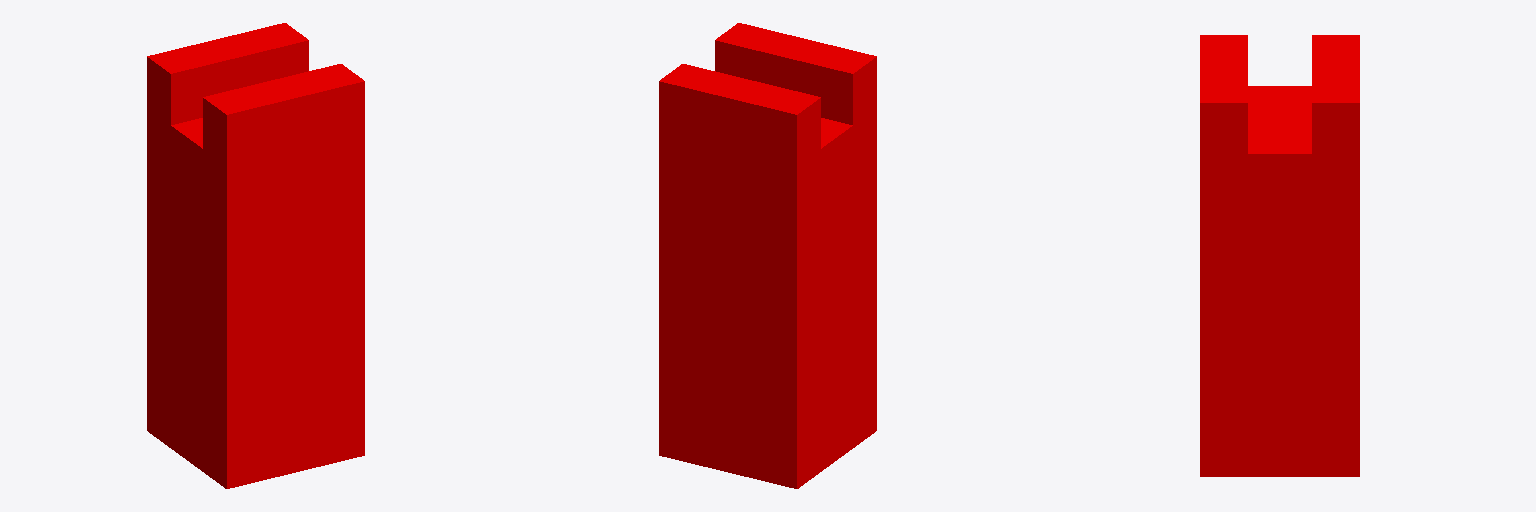
Rendered from queen_b.obj.
The picture shows the model from 3 angles: view 1: azimuth 30°, elevation 25°; view 2: azimuth 150°, elevation 25°; view 3: azimuth 270°, elevation 25°; orthographic projection.
Parts seen in each view (by area): view 1: queen; view 2: queen; view 3: queen.
Part boxes in pixels (x1,y1,x2,y2): queen: (147,23,364,488); queen: (659,23,876,488); queen: (1200,35,1359,476).
Size of the model in its own units: 1.27 by 3.28 by 1.27.